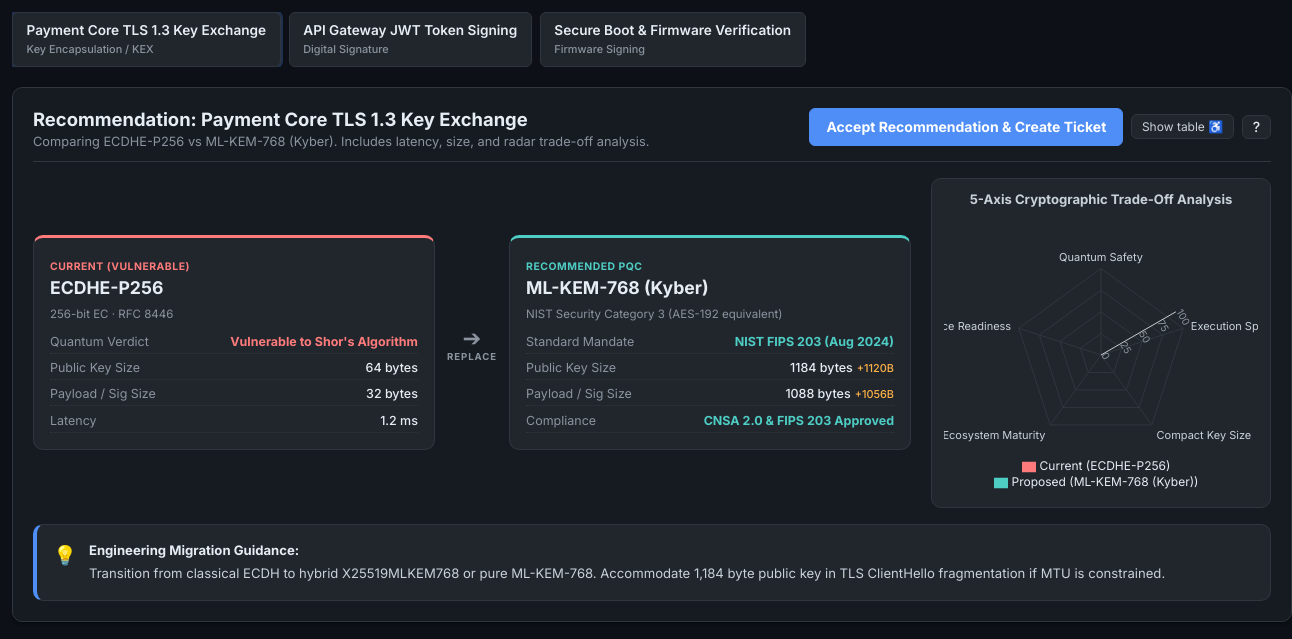
it: Phase 10B — Usability Validation & Accessibility (R21) › 10B.1 & 10B.2 — Usability Task Verification (Tasks A, B, C) › Task B (Remediation): Surfaces replacement algorithm and radar trade-offs
The image size is (1292, 639).
Expected: the heading "Recommendation: Payment Core TLS 1.3 Key Exchange" is shown, [33,108,528,130]
Expected: the text "ML-KEM-768" is shown, [33,134,649,148]
Click the button "Accept Recommendation & Create Ticket".
click(966, 127)  # box [810,108,1123,146]
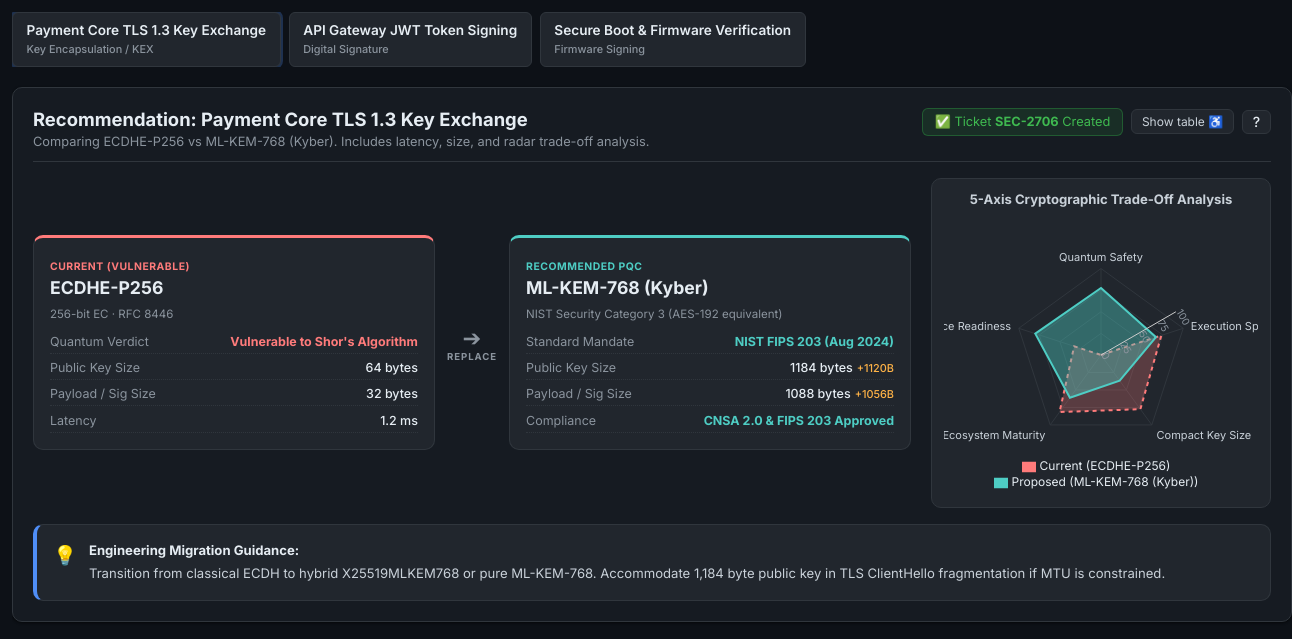
Now the text "✅ Ticket SEC-2706 Created" is shown, box [922,108,1123,136]
